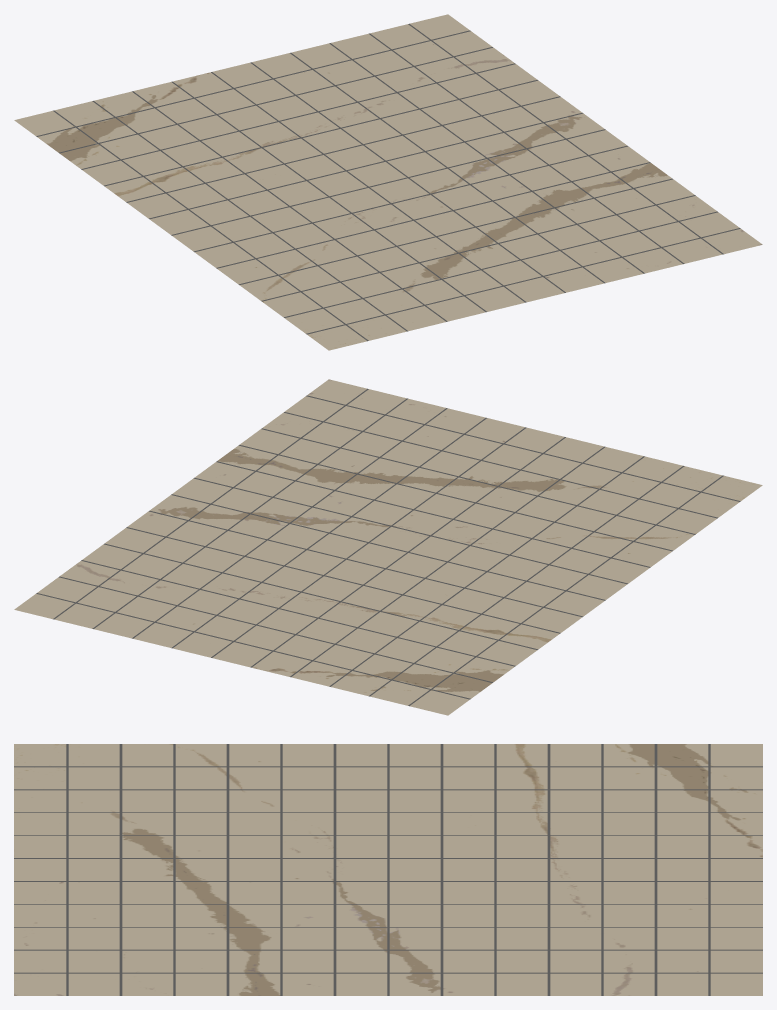
The model's file is Sol.fbx.
The picture shows the model from 3 angles, top to bottom: view 1: azimuth 30°, elevation 25°; view 2: azimuth 150°, elevation 25°; view 3: azimuth 270°, elevation 25°; orthographic projection. The views are drawn at different scales.
Visible parts, largest first — view 1: Sol_Amphi; view 2: Sol_Amphi; view 3: Sol_Amphi.
Boxes of the visible parts, bbox=[...] form: Sol_Amphi: bbox=[14, 14, 762, 350]; Sol_Amphi: bbox=[14, 379, 762, 715]; Sol_Amphi: bbox=[14, 744, 762, 995].
Bounding box in the file's own units: 796 × 0.000163 × 1000.
